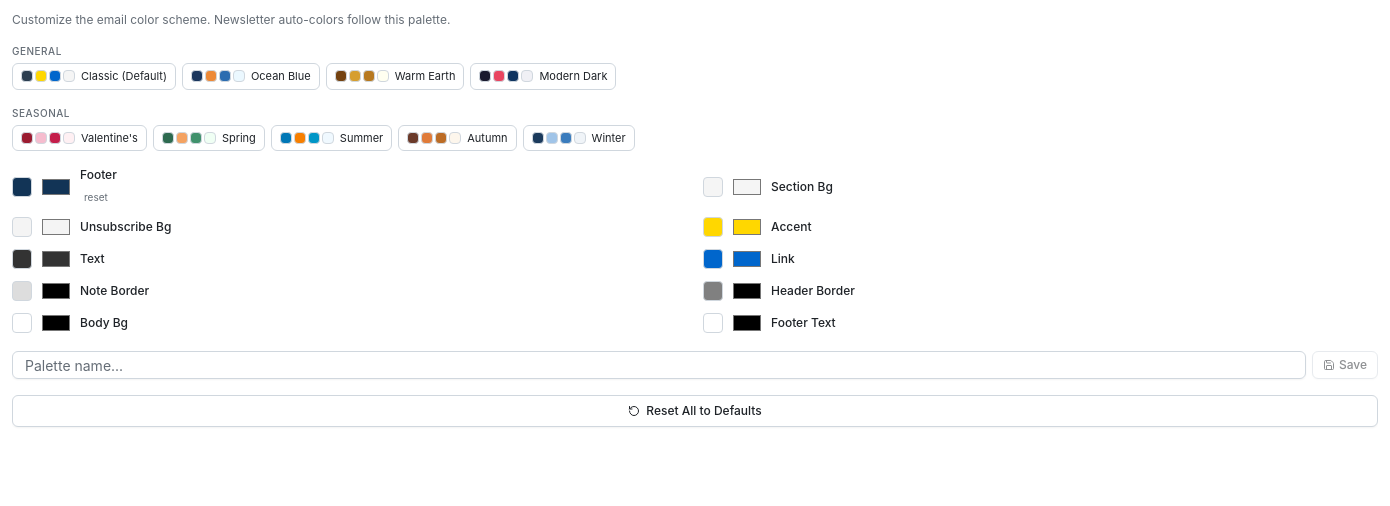
EmailThemeEditor › saves custom palette to localStorage
// Find save input and button
In the field with placeholder "Palette name...": (659, 365) [12,351,1306,379], type "My Custom"
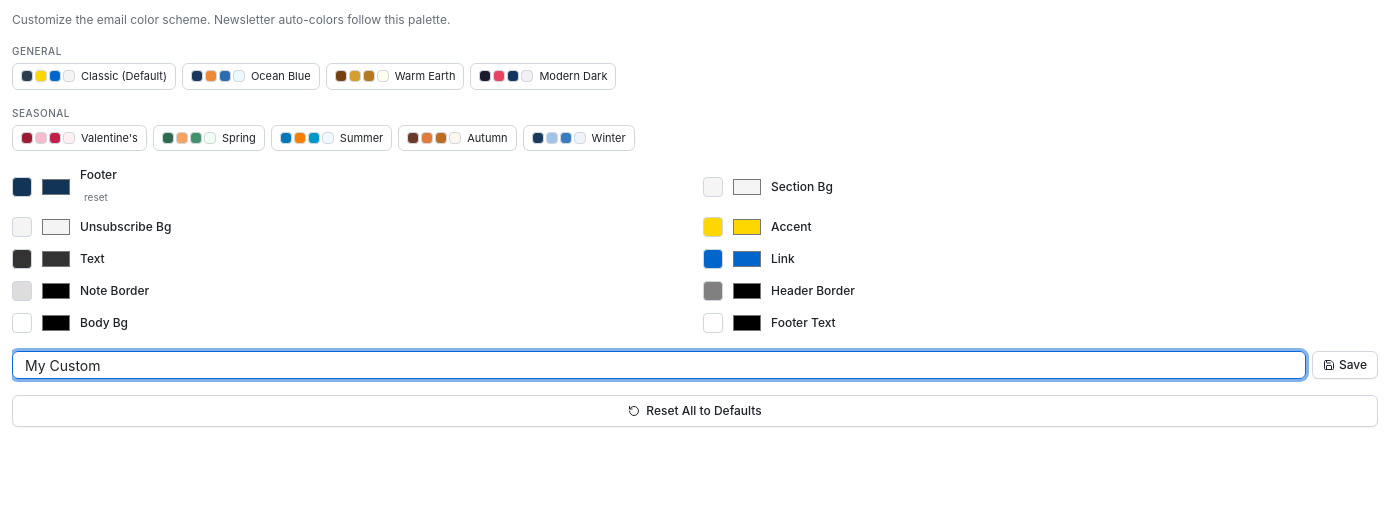
// The Save button has icon + text
Click the button "Save": click(1345, 365) [1312,351,1378,379]
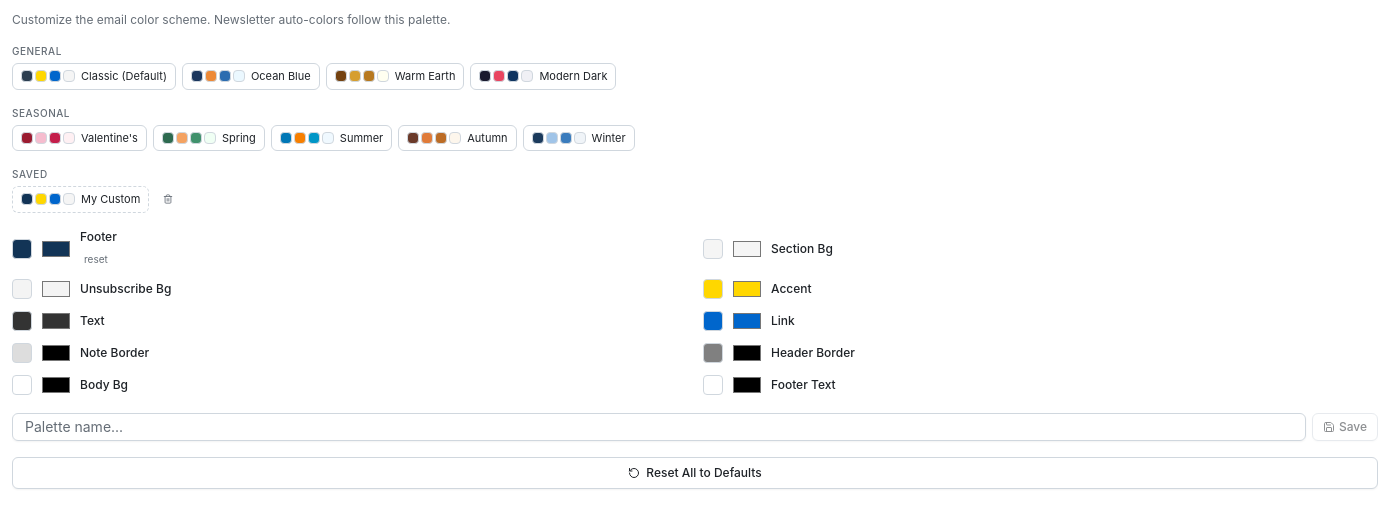
Expected: the text "My Custom" is shown, [81,191,140,208]
